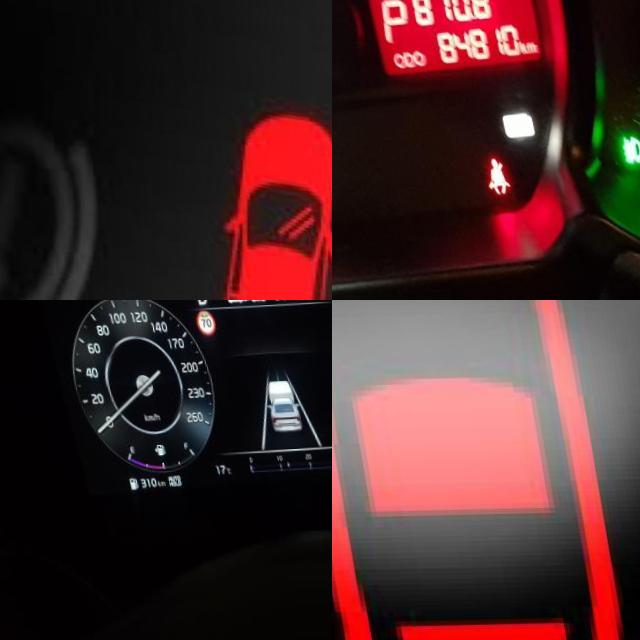SideLamp: (632, 91, 640, 122)
